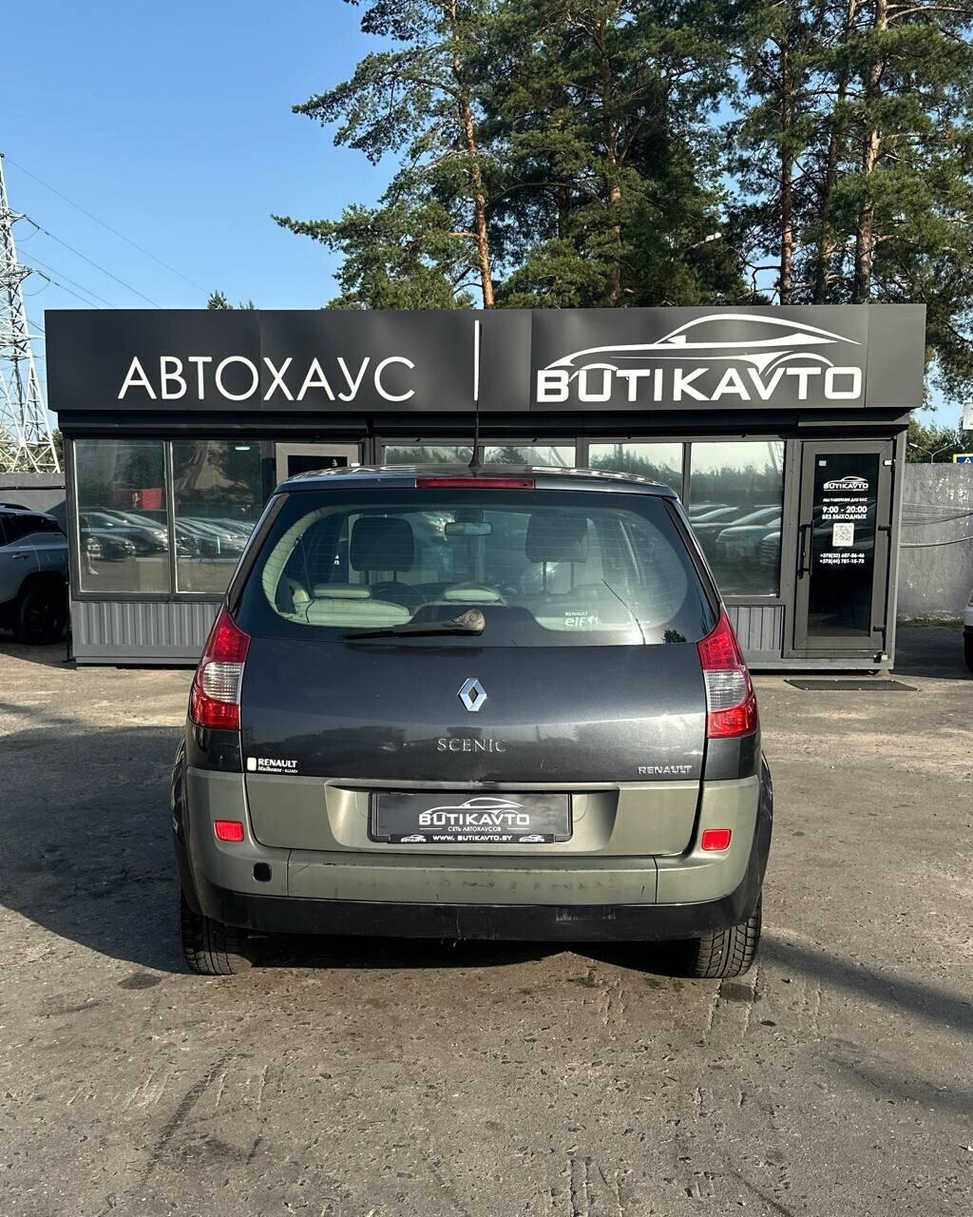Megane_2005-2009: (176, 461, 784, 1008)
